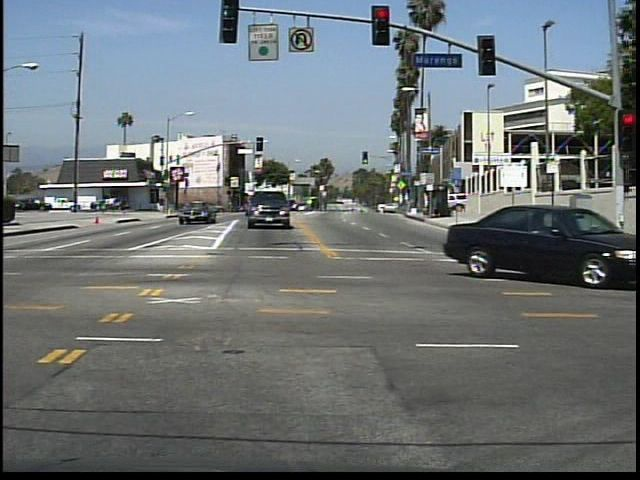person: (120, 195, 131, 219)
